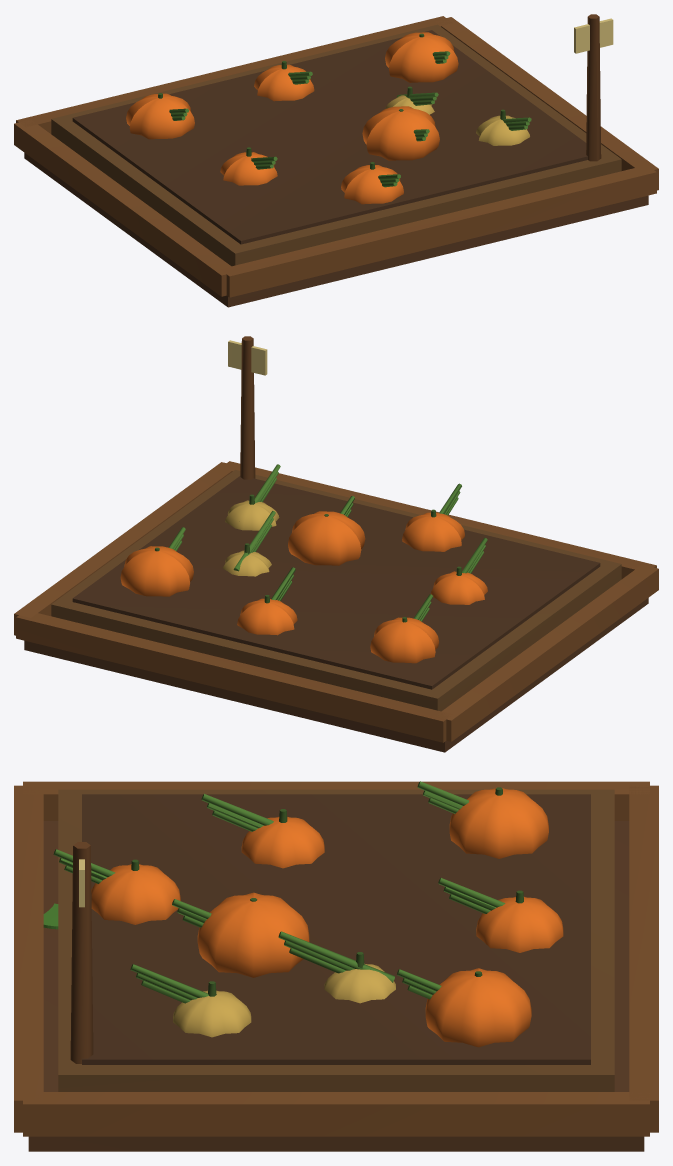
File: pumpkin-patch.glb
3 renders of one model, top to bottom at view 1: azimuth 30°, elevation 25°; view 2: azimuth 150°, elevation 25°; view 3: azimuth 270°, elevation 25°, orthographic. The views are drawn at different scales.
Parts seen in each view (by area): view 1: soil-top, soil, rail-1, rail-2, bed-frame, rail-3, rail-0, pumpkin-plant-4-fruit, pumpkin-plant-2-fruit, pumpkin-plant-0-fruit, stake, pumpkin-plant-6-fruit (+4 smaller); view 2: soil-top, soil, rail-0, rail-2, bed-frame, rail-3, pumpkin-plant-4-fruit, rail-1, pumpkin-plant-2-fruit, pumpkin-plant-0-fruit, stake, pumpkin-plant-6-fruit (+5 smaller); view 3: soil-top, soil, rail-3, bed-frame, rail-0, rail-1, pumpkin-plant-4-fruit, rail-2, pumpkin-plant-2-fruit, pumpkin-plant-0-fruit, stake, pumpkin-plant-6-fruit (+7 smaller).
Part boxes in pixels (x1,y1,x2,y2): soil-top: [72, 30, 587, 244]; soil: [51, 24, 621, 266]; rail-1: [220, 165, 656, 297]; rail-2: [14, 120, 231, 296]; bed-frame: [24, 153, 648, 307]; rail-3: [436, 17, 658, 190]; rail-0: [16, 16, 452, 133]; pumpkin-plant-4-fruit: [362, 106, 439, 160]; pumpkin-plant-2-fruit: [385, 32, 458, 82]; pumpkin-plant-0-fruit: [126, 93, 194, 139]; stake: [586, 14, 601, 161]; pumpkin-plant-6-fruit: [341, 165, 403, 204]; soil-top: [72, 476, 600, 689]; soil: [51, 469, 621, 711]; rail-0: [16, 613, 451, 742]; rail-2: [438, 564, 658, 741]; bed-frame: [24, 598, 648, 752]; rail-3: [14, 462, 234, 635]; pumpkin-plant-4-fruit: [288, 511, 365, 565]; rail-1: [220, 461, 656, 578]; pumpkin-plant-2-fruit: [120, 546, 193, 596]; pumpkin-plant-0-fruit: [370, 617, 438, 663]; stake: [240, 336, 255, 479]; pumpkin-plant-6-fruit: [402, 512, 464, 551]; soil-top: [82, 794, 590, 1064]; soil: [58, 789, 614, 1091]; rail-3: [23, 1092, 649, 1136]; bed-frame: [28, 821, 644, 1151]; rail-0: [629, 785, 658, 1132]; rail-1: [14, 785, 43, 1132]; pumpkin-plant-4-fruit: [197, 892, 309, 977]; rail-2: [23, 781, 649, 820]; pumpkin-plant-2-fruit: [425, 968, 531, 1047]; pumpkin-plant-0-fruit: [449, 788, 548, 858]; stake: [70, 842, 93, 1063]; pumpkin-plant-6-fruit: [91, 864, 180, 924].
Size of the model in its own units: 2.58 by 1.04 by 2.18.
